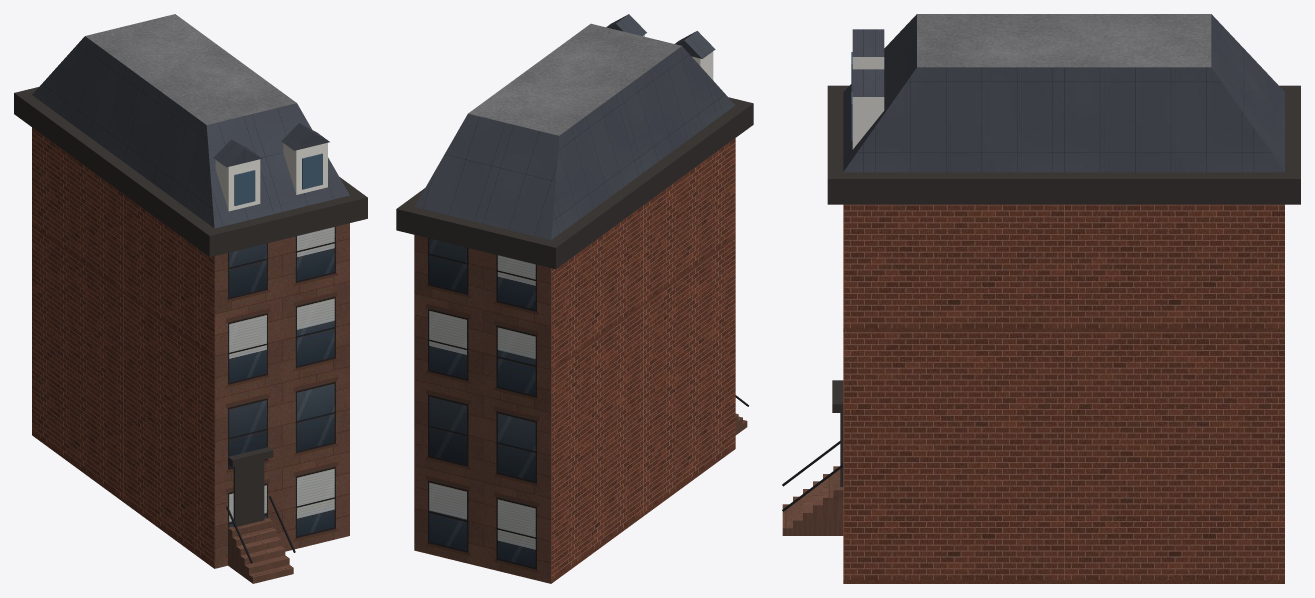
File: 003_brownstone_mansard.glb
3 renders of one model, left to right at view 1: azimuth 30°, elevation 25°; view 2: azimuth 150°, elevation 25°; view 3: azimuth 270°, elevation 25°, orthographic. The views are drawn at different scales.
Parts seen in each view (by area): view 1: 003_brownstone_mansard; view 2: 003_brownstone_mansard; view 3: 003_brownstone_mansard.
Boxes of the visible parts, x1=… form: 003_brownstone_mansard: x1=14, y1=14, x2=367, y2=583; 003_brownstone_mansard: x1=396, y1=14, x2=753, y2=583; 003_brownstone_mansard: x1=782, y1=14, x2=1300, y2=583.
Bounding box in the file's own units: 7 × 17.6 × 16.44.
9 materials, 5 textured.
